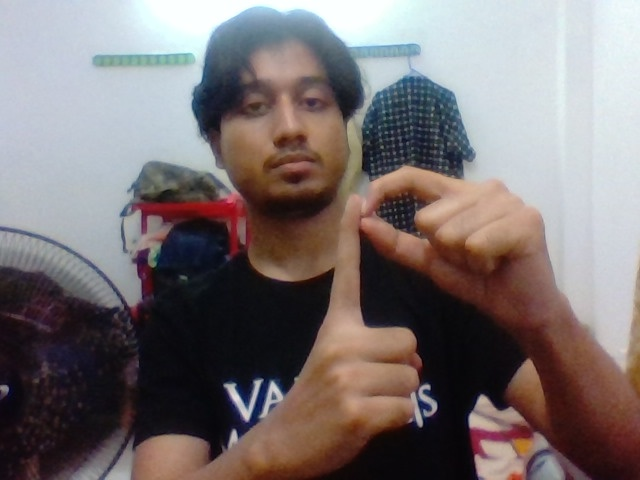P: (320, 162, 533, 428)
